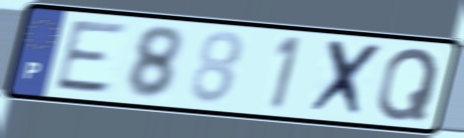1: (269, 35, 303, 115)
8: (188, 28, 249, 109), (125, 23, 186, 103)
E: (50, 19, 133, 96)
Q: (373, 45, 443, 123)
X: (303, 37, 387, 122)
